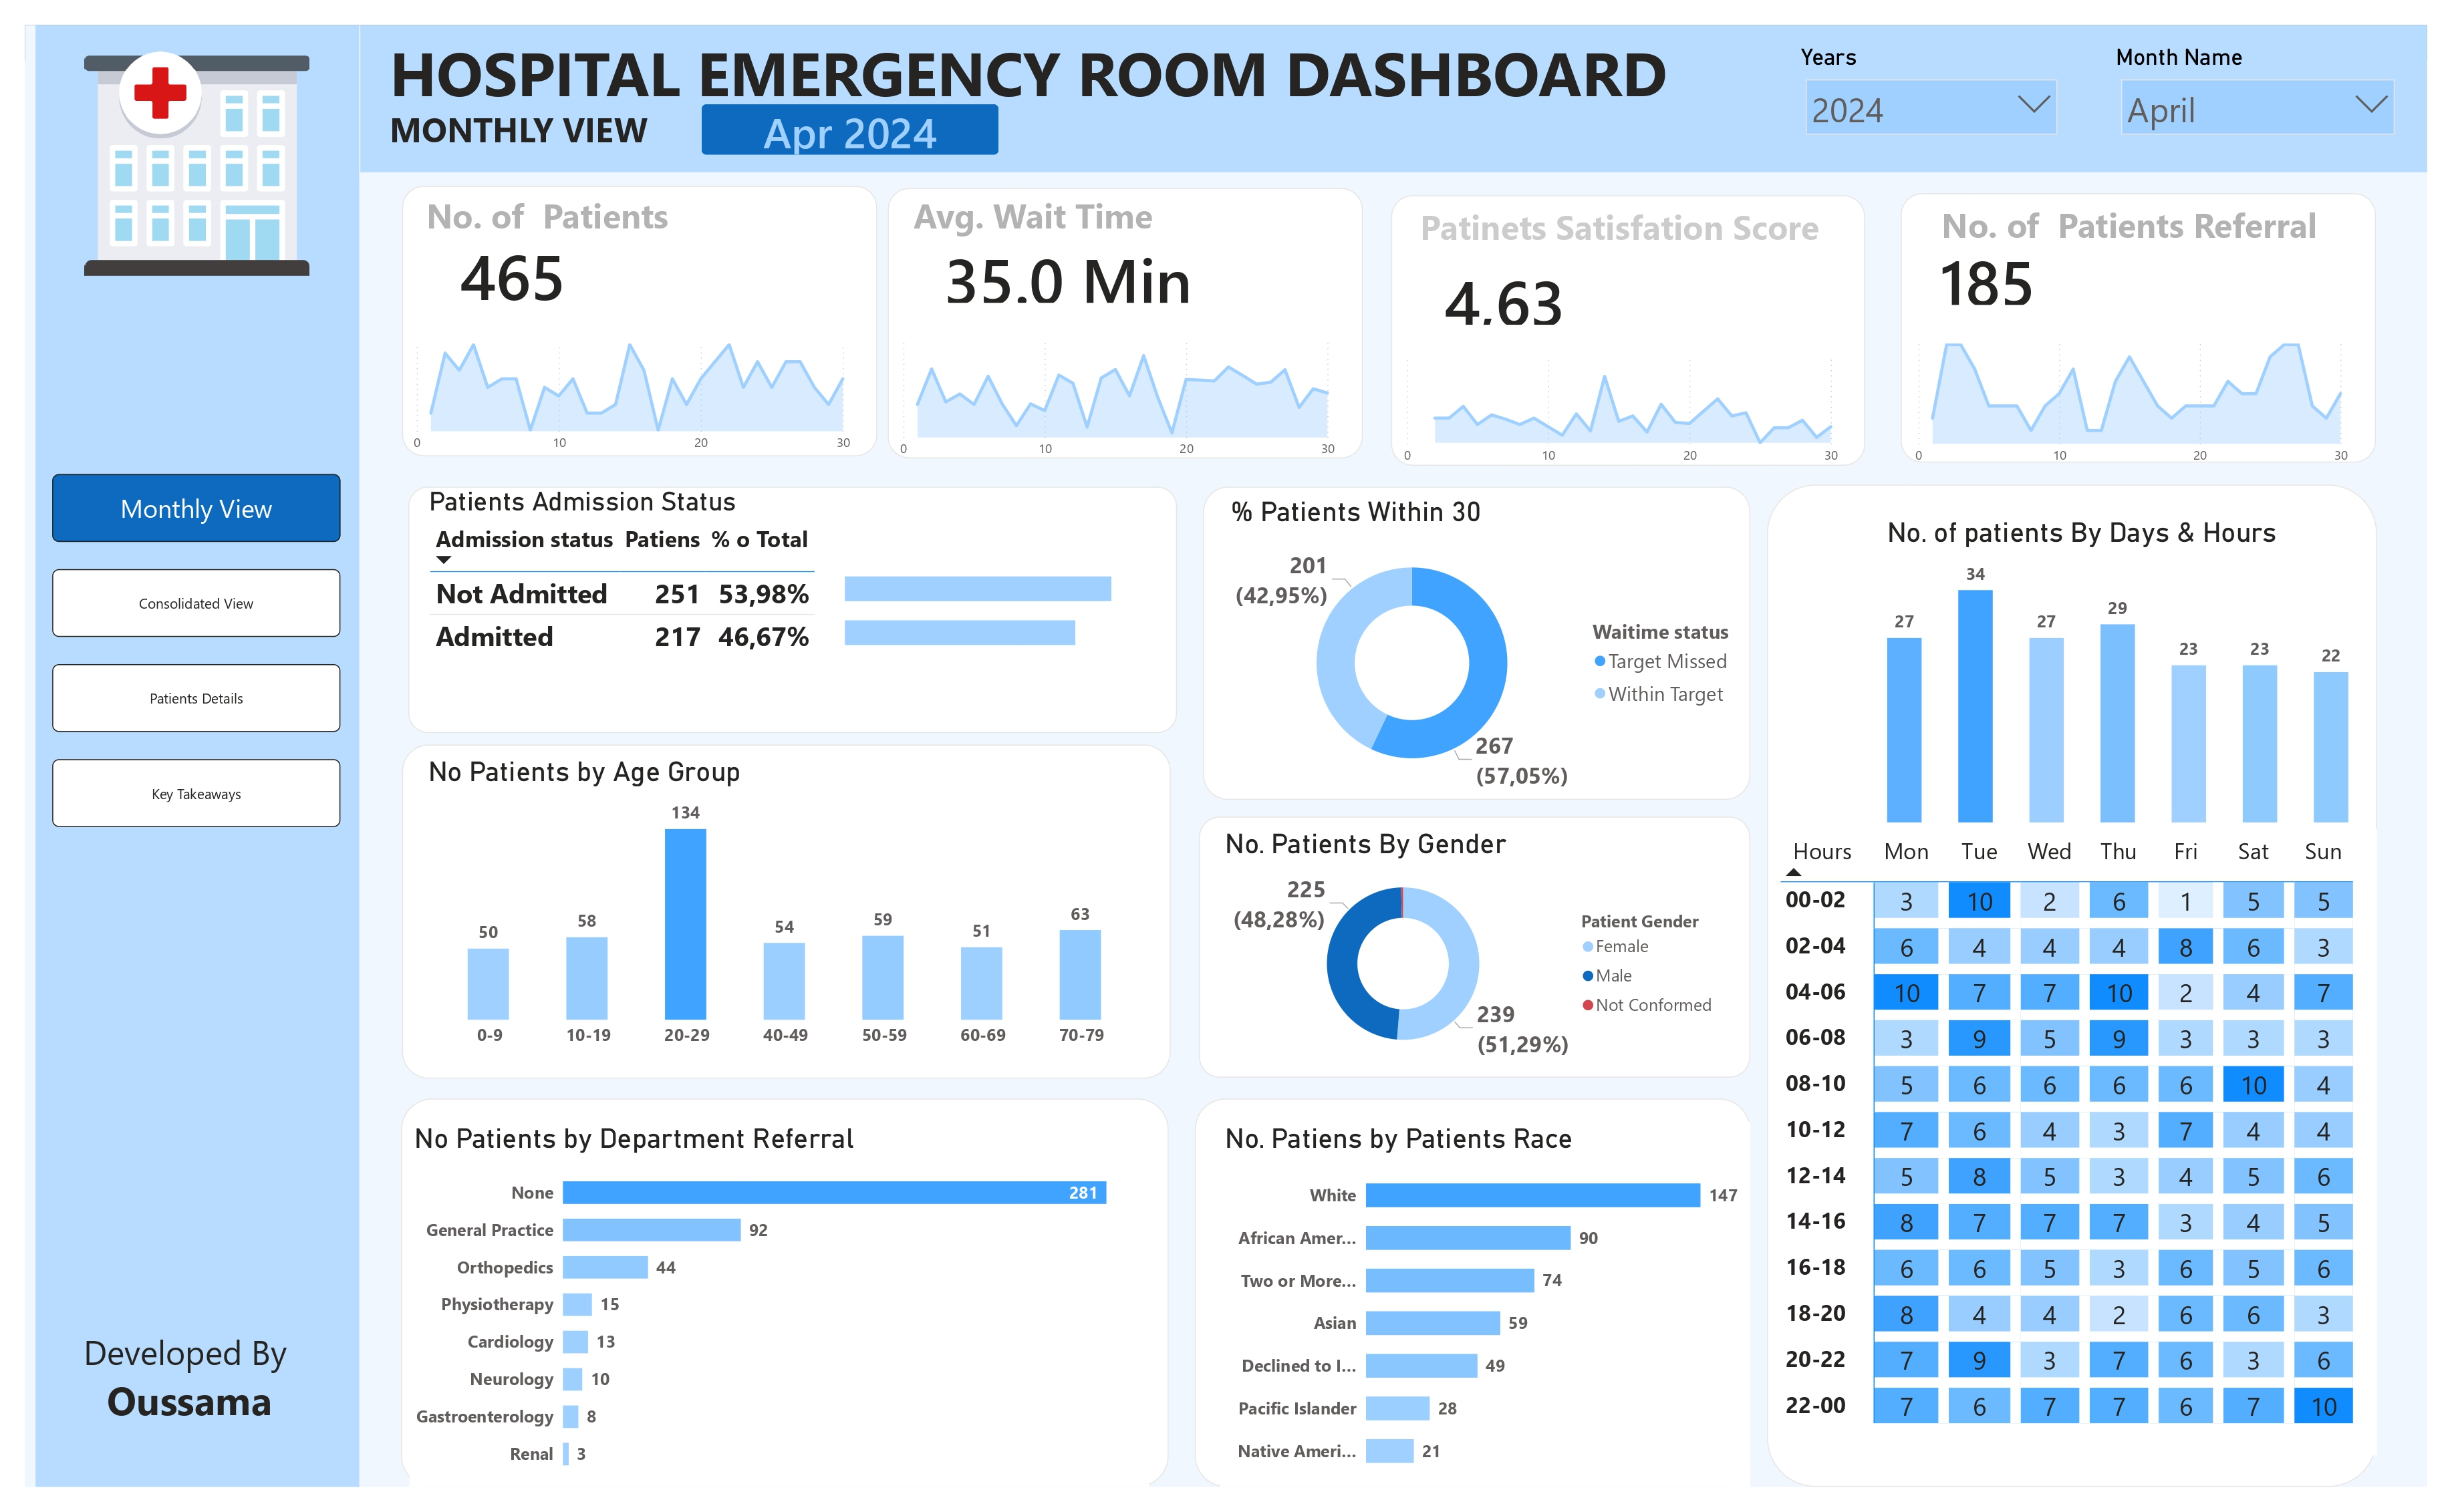

What the dashboard file says about the page in this screenshot:
{"tool":"powerbi","page":{"name":"Monthly View","canvas":[2300,1400],"ordinal":0},"visuals":[{"type":"shape","box":[10.3,0,310,1400],"z":0},{"type":"shape","box":[320.5,0,1979.5,141],"z":1000},{"type":"textbox","box":[343.6,0,1323.1,159],"z":2000},{"type":"textbox","box":[343.6,71.8,315.4,69.2],"z":3000},{"type":"shape","box":[361,153.9,455,259],"z":4000},{"type":"cardVisual","fields":{"Data":["Hospital ER_Data.No Patiens"]},"box":[368,188,198,98],"z":5000},{"type":"slicer","title":"Years","fields":{"Values":["Date Table.Year"]},"box":[1694.9,17.9,261.5,107.7],"z":6000},{"type":"slicer","title":"Month Name","fields":{"Values":["Date Table.Date.Variation.Date Hierarchy.Month"]},"box":[1997.4,17.9,282.1,107.7],"z":7000},{"type":"textbox","box":[378.5,155.4,315.4,56.4],"z":8000},{"type":"cardVisual","fields":{"Data":["Min(Date Table.Month & Year)"]},"box":[630.8,59,317.9,82.1],"z":9000},{"type":"areaChart","fields":{"Category":["Date Table.Date.Variation.Date Hierarchy.Day"],"Y":["Hospital ER_Data.No Patiens"]},"box":[360,292,438,126],"z":10000},{"type":"shape","box":[826.5,155.7,455,259],"z":11000},{"type":"cardVisual","fields":{"Data":["Hospital ER_Data.Avg Wait time"]},"box":[847.5,197.5,302.5,85],"z":12000},{"type":"textbox","box":[845.9,155.2,315.4,56.4],"z":13000},{"type":"areaChart","fields":{"Category":["Date Table.Date.Variation.Date Hierarchy.Day"],"Y":["Avg(Hospital ER_Data.Patient Waittime)"]},"box":[826,290,436,134],"z":14000},{"type":"shape","box":[1308.3,163.2,453.8,259],"z":15000},{"type":"cardVisual","fields":{"Data":["Hospital ER_Data.Patinets Satisfaction Score"]},"box":[1308.3,219.6,217.9,84.6],"z":16000},{"type":"shape","box":[1796,161.5,455,257.5],"z":17000},{"type":"textbox","box":[1331.3,165.8,412.8,56.4],"z":18000},{"type":"cardVisual","fields":{"Data":["Hospital ER_Data.No of patients Referral"]},"box":[1797.5,200,162.5,85],"z":19000},{"type":"areaChart","fields":{"Category":["Date Table.Date.Variation.Date Hierarchy.Day"],"Y":["Sum(Hospital ER_Data.Patient Satisfaction Score)"]},"box":[1308,304,436,126],"z":20000},{"type":"textbox","box":[1829.6,163.8,402.6,61.5],"z":21000},{"type":"areaChart","fields":{"Category":["Date Table.Date.Variation.Date Hierarchy.Day"],"Y":["Hospital ER_Data.No of patients Referral"]},"box":[1798,292,434,138],"z":22000},{"type":"shape","box":[367.2,442.1,735.9,235.9],"z":23000},{"type":"tableEx","title":"Patients Admission Status","fields":{"Values":["Hospital ER_Data.Admission status","Hospital ER_Data.No Patiens1","Hospital ER_Data.No Patiens"]},"box":[382.3,440.6,694.9,215.4],"z":24000},{"type":"shape","box":[361,688.8,735.9,320.5],"z":25000},{"type":"clusteredBarChart","fields":{"Category":["Hospital ER_Data.Admission status"],"Y":["Hospital ER_Data.No Patiens"]},"box":[779.7,494.5,315.4,128.2],"z":26000},{"type":"clusteredColumnChart","title":"No Patients by Age Group","fields":{"Category":["Hospital ER_Data.Age group"],"Y":["Hospital ER_Data.No Patiens"]},"box":[381.5,699.1,694.9,289.7],"z":27000},{"type":"shape","box":[360,1027.5,735,372.5],"z":28000},{"type":"clusteredBarChart","title":"No Patients by Department Referral","fields":{"Category":["Hospital ER_Data.Department Referral"],"Y":["Hospital ER_Data.No Patiens"]},"box":[368,1050,708,350],"z":29000},{"type":"shape","box":[1128,442,524,300],"z":30000},{"type":"donutChart","title":"% Patients  Within 30","fields":{"Y":["Hospital ER_Data.No Patiens"],"Category":["Hospital ER_Data.Waitime status"]},"box":[1150,450,502,292],"z":31000},{"type":"shape","box":[1124,758,528,250],"z":32000},{"type":"donutChart","title":"No. Patients By Gender","fields":{"Y":["Hospital ER_Data.No Patiens"],"Category":["Hospital ER_Data.Patient Gender"]},"box":[1144,768,486,232],"z":33000},{"type":"shape","box":[1120,1028,532,372],"z":34000},{"type":"clusteredBarChart","title":"No. Patiens by Patients Race","fields":{"Category":["Hospital ER_Data.Patient Race"],"Y":["Hospital ER_Data.No Patiens"]},"box":[1144,1050,508,350],"z":35000},{"type":"shape","box":[1668,440,584,960],"z":36000},{"type":"pivotTable","fields":{"Rows":["Hospital ER_Data.Wittime Interval"],"Columns":["Date Table.Name Days"],"Values":["Hospital ER_Data.No Patiens"]},"box":[1676,770,576,600],"z":37000},{"type":"columnChart","title":"No. of patients By Days &  Hours","fields":{"Y":["Hospital ER_Data.No of patients Referral"],"Category":["Date Table.Name Days"]},"box":[1778,470,454,300],"z":38000},{"type":"pageNavigator","box":[26,430,276,340],"z":39000},{"type":"image","box":[37.5,25,252.5,215],"z":40000},{"type":"textbox","box":[25,1242.5,265,127.5],"z":41000}]}

Visuals, with their boxes on the page's 2300x1400 design canvas (x1, y1, x2, y2). These are canvas units, not pixel positions in the 2452x1512 screenshot, which may show the page scaled, cropped or inside an application window:
shape: Rect(10, 0, 320, 1400)
shape: Rect(320, 0, 2300, 141)
textbox: Rect(344, 0, 1667, 159)
textbox: Rect(344, 72, 659, 141)
shape: Rect(361, 154, 816, 413)
cardVisual - Hospital ER_Data.No Patiens: Rect(368, 188, 566, 286)
"Years" slicer: Rect(1695, 18, 1956, 126)
"Month Name" slicer: Rect(1997, 18, 2280, 126)
textbox: Rect(378, 155, 694, 212)
cardVisual - Min(Date Table.Month & Year): Rect(631, 59, 949, 141)
areaChart - Date Table.Date.Variation.Date Hierarchy.Day x Hospital ER_Data.No Patiens: Rect(360, 292, 798, 418)
shape: Rect(826, 156, 1282, 415)
cardVisual - Hospital ER_Data.Avg Wait time: Rect(848, 198, 1150, 282)
textbox: Rect(846, 155, 1161, 212)
areaChart - Date Table.Date.Variation.Date Hierarchy.Day x Avg(Hospital ER_Data.Patient Waittime): Rect(826, 290, 1262, 424)
shape: Rect(1308, 163, 1762, 422)
cardVisual - Hospital ER_Data.Patinets Satisfaction Score: Rect(1308, 220, 1526, 304)
shape: Rect(1796, 162, 2251, 419)
textbox: Rect(1331, 166, 1744, 222)
cardVisual - Hospital ER_Data.No of patients Referral: Rect(1798, 200, 1960, 285)
areaChart - Date Table.Date.Variation.Date Hierarchy.Day x Sum(Hospital ER_Data.Patient Satisfaction Score): Rect(1308, 304, 1744, 430)
textbox: Rect(1830, 164, 2232, 225)
areaChart - Date Table.Date.Variation.Date Hierarchy.Day x Hospital ER_Data.No of patients Referral: Rect(1798, 292, 2232, 430)
shape: Rect(367, 442, 1103, 678)
"Patients Admission Status" tableEx: Rect(382, 441, 1077, 656)
shape: Rect(361, 689, 1097, 1009)
clusteredBarChart - Hospital ER_Data.Admission status x Hospital ER_Data.No Patiens: Rect(780, 494, 1095, 623)
"No Patients by Age Group" clusteredColumnChart: Rect(382, 699, 1076, 989)
shape: Rect(360, 1028, 1095, 1400)
"No Patients by Department Referral" clusteredBarChart: Rect(368, 1050, 1076, 1400)
shape: Rect(1128, 442, 1652, 742)
"% Patients  Within 30" donutChart: Rect(1150, 450, 1652, 742)
shape: Rect(1124, 758, 1652, 1008)
"No. Patients By Gender" donutChart: Rect(1144, 768, 1630, 1000)
shape: Rect(1120, 1028, 1652, 1400)
"No. Patiens by Patients Race" clusteredBarChart: Rect(1144, 1050, 1652, 1400)
shape: Rect(1668, 440, 2252, 1400)
pivotTable - Hospital ER_Data.Wittime Interval x Date Table.Name Days: Rect(1676, 770, 2252, 1370)
"No. of patients By Days &  Hours" columnChart: Rect(1778, 470, 2232, 770)
pageNavigator: Rect(26, 430, 302, 770)
image: Rect(38, 25, 290, 240)
textbox: Rect(25, 1242, 290, 1370)
